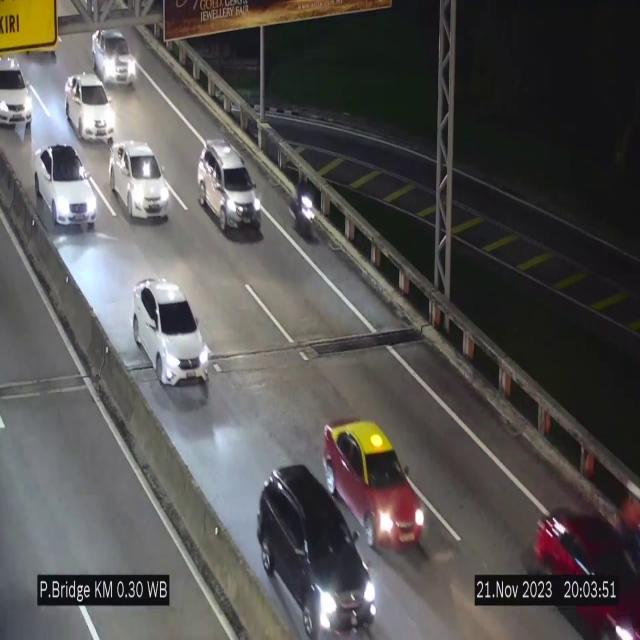Car: (256, 463, 377, 640), (529, 482, 640, 640), (322, 411, 429, 552), (133, 279, 209, 388), (197, 139, 261, 233), (34, 145, 96, 228), (110, 142, 170, 220), (0, 42, 36, 143), (66, 72, 114, 142), (92, 30, 136, 86)
Motorcycle: (292, 171, 316, 251)
